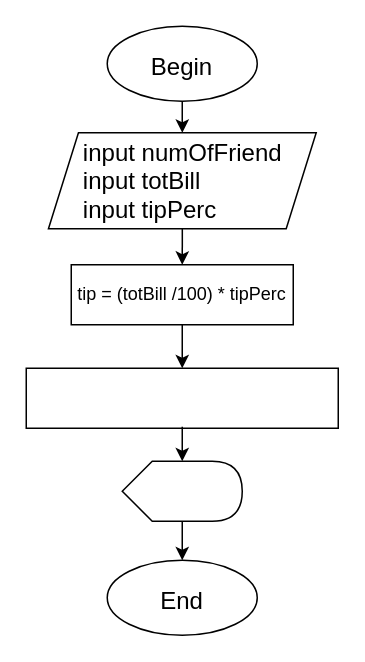
The diagram is 365 pixels wide and 662 high, and some of its shapes have lost their labels. Each missing label, with the centre of its shape:
amount = (totBill + tip) / numOfFriend: [181,397]
print tax: [181,490]
